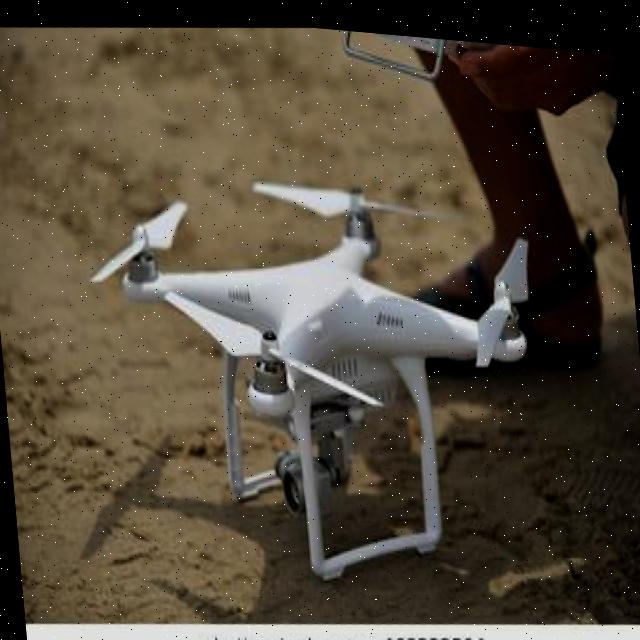drone: (59, 102, 596, 614)
